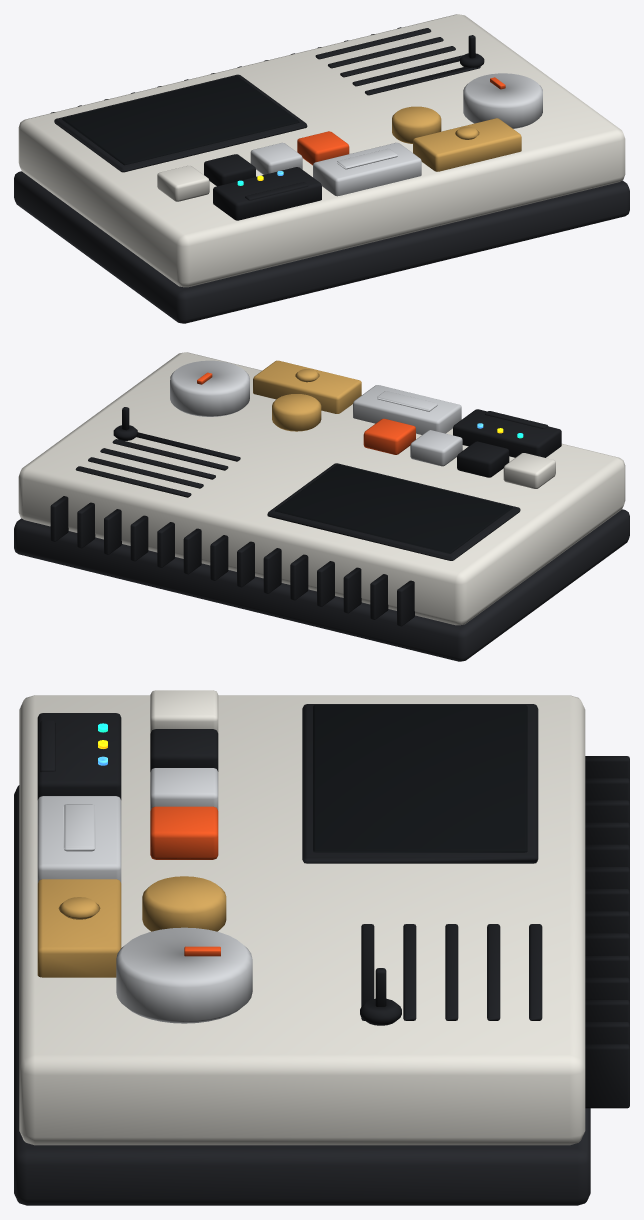
Rendered from unit01.glb.
3 renders of one model, top to bottom at view 1: azimuth 30°, elevation 25°; view 2: azimuth 150°, elevation 25°; view 3: azimuth 270°, elevation 25°, orthographic. The views are drawn at different scales.
Parts seen in each view (by area): view 1: chassis_top, chassis_base, display_screen, cartridge_filo, cartridge_nemue, cartridge_lab, knob_main, vent_grille, display_bezel, key_1, knob_aux, key_3 (+3 smaller); view 2: chassis_top, chassis_base, display_screen, heatsink_rear, knob_main, cartridge_filo, cartridge_nemue, cartridge_lab, vent_grille, display_bezel, knob_aux, key_1 (+4 smaller); view 3: chassis_top, chassis_base, display_screen, heatsink_rear, knob_main, cartridge_nemue, cartridge_filo, cartridge_lab, vent_grille, display_bezel, knob_aux, key_4 (+4 smaller).
Boxes of the visible parts, x1,y1,x2,y2 form: chassis_top: (18, 14, 625, 287); chassis_base: (14, 171, 629, 323); display_screen: (62, 76, 299, 165); cartridge_filo: (313, 142, 421, 196); cartridge_nemue: (413, 118, 521, 171); cartridge_lab: (213, 167, 321, 220); knob_main: (463, 73, 542, 128); vent_grille: (315, 28, 480, 95); display_bezel: (54, 74, 307, 172); key_1: (157, 165, 209, 201); knob_aux: (392, 106, 441, 143); key_3: (250, 142, 302, 174); chassis_top: (18, 352, 625, 625); chassis_base: (14, 509, 629, 661); display_screen: (275, 464, 512, 553); heatsink_rear: (50, 496, 414, 626); knob_main: (170, 360, 249, 416); cartridge_filo: (353, 385, 461, 434); cartridge_nemue: (253, 360, 361, 413); cartridge_lab: (453, 409, 561, 457); vent_grille: (75, 432, 240, 497); display_bezel: (267, 463, 520, 560); knob_aux: (272, 394, 321, 431); key_1: (503, 453, 555, 488); chassis_top: (19, 695, 585, 1145); chassis_base: (14, 785, 590, 1205); display_screen: (313, 705, 527, 852); heatsink_rear: (585, 756, 629, 1108); knob_main: (116, 927, 252, 1023); cartridge_nemue: (37, 879, 121, 977); cartridge_filo: (37, 796, 121, 883); cartridge_lab: (37, 713, 121, 799); vent_grille: (361, 924, 542, 1020); display_bezel: (302, 704, 538, 863); knob_aux: (142, 876, 226, 931); key_4: (150, 806, 218, 859).
Bounding box in the file's own units: 0.34 × 0.0875 × 0.235.
